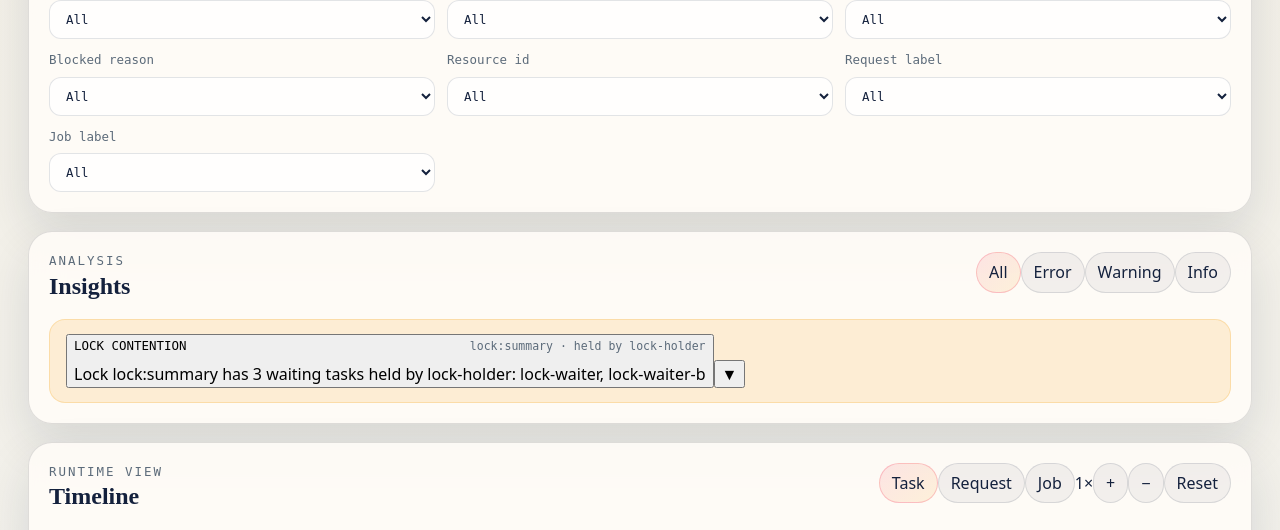
Test case: App › prefers insight role counts in resource summary when graph detail is partial
(page scrolled)
Click the button named "Lock lock:summary has 3 waiting tasks held by lock-holder": (390, 361) top-left (66, 334), bottom-right (714, 388)
(page scrolled)
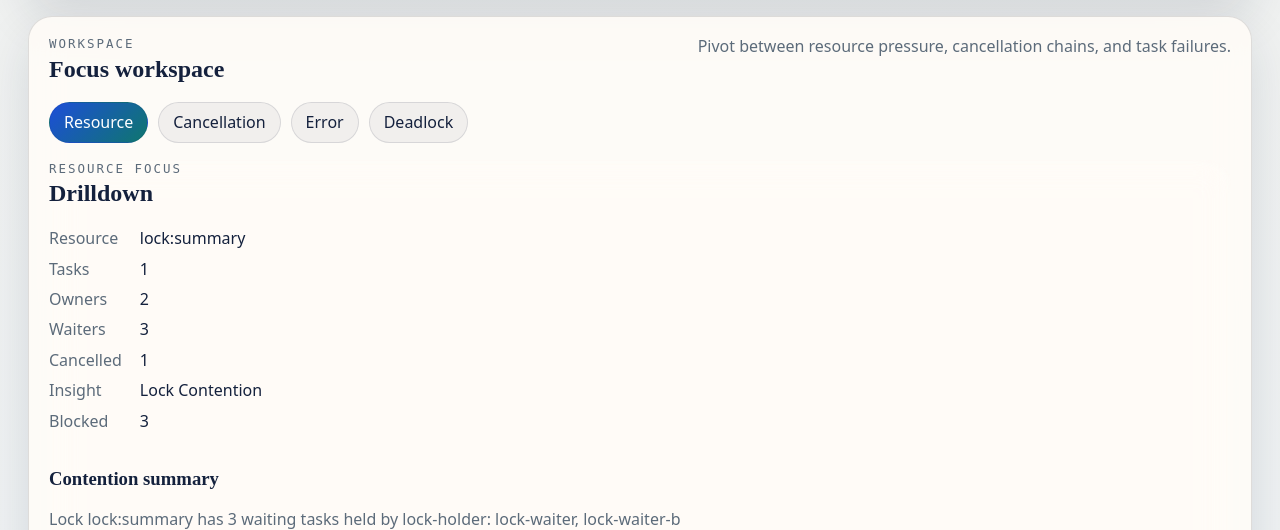
Expected: the text "2" is shown, top-left (140, 288), bottom-right (149, 310)
Expected: the 1st text "3" is shown, top-left (140, 318), bottom-right (149, 340)
Expected: the 2nd text "1" is shown, top-left (140, 349), bottom-right (149, 371)
